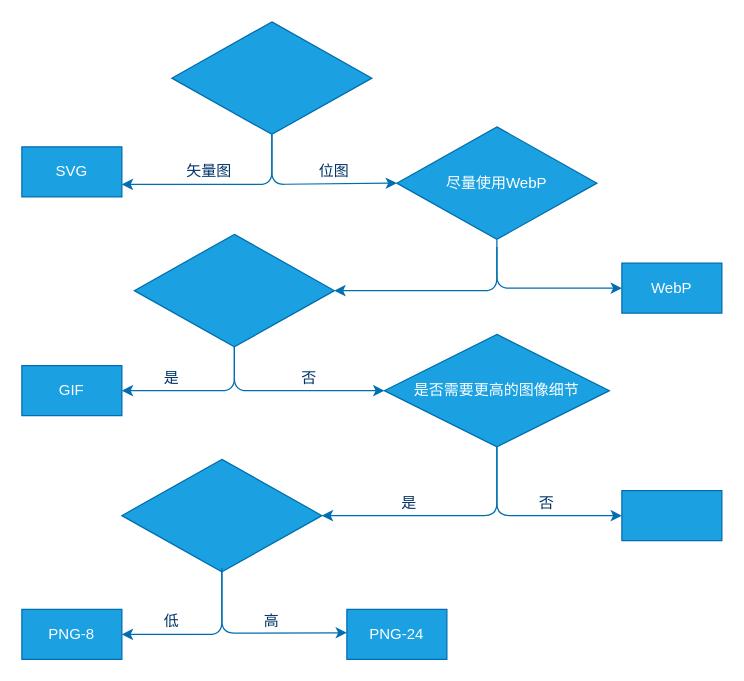
Some shapes in this 744 by 681 pixel diagram are drawn without their labels. The shapes that lost their labels are listed below. From the top down, each one's centre as x and y in pixels, then its label:
At (x=271, y=77): "尽量使用矢量图".
At (x=233, y=290): "是否包含动画".
At (x=221, y=515): "包含色阶的高低".
At (x=671, y=515): "JPEG".
